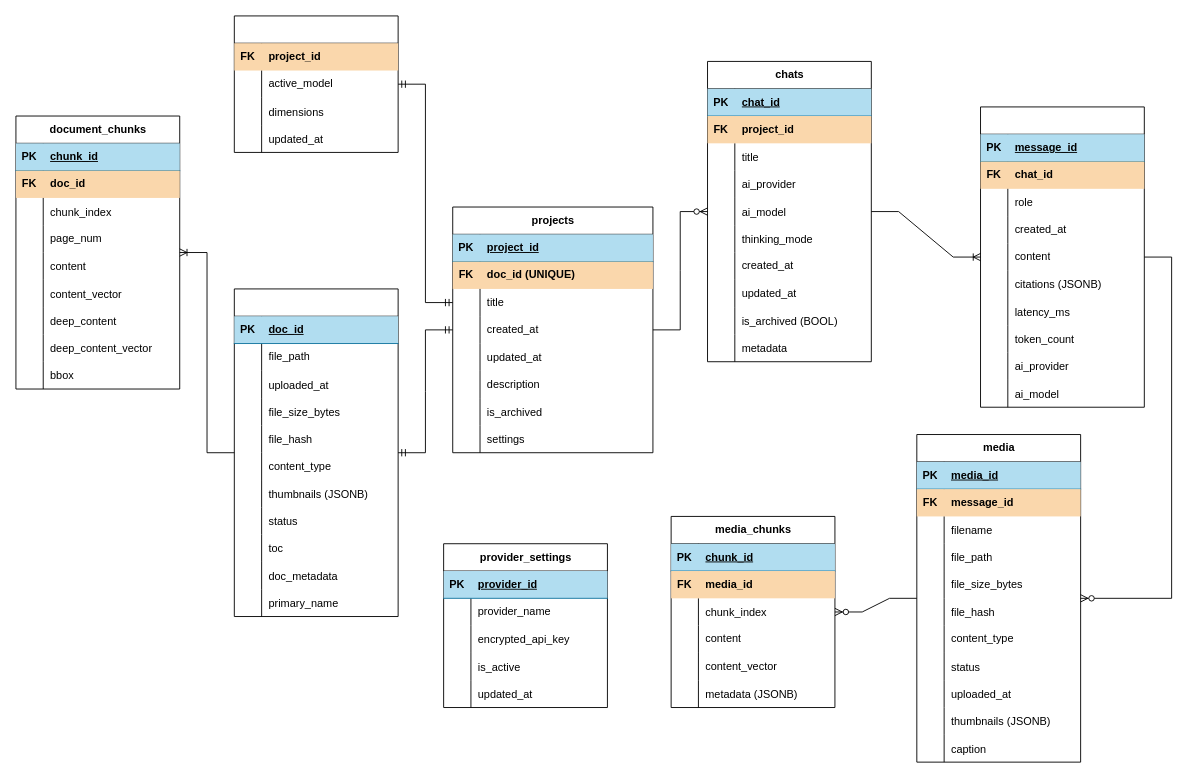
The diagram is 1195 pixels wide and 778 high, and some of its shapes have lost their labels. Here are the shapes that lost their labels. From the top down, the box of each, then its label:
(233, 15, 398, 152): embedding_index_metadata
(980, 106, 1144, 407): messages
(233, 288, 398, 617): documents
